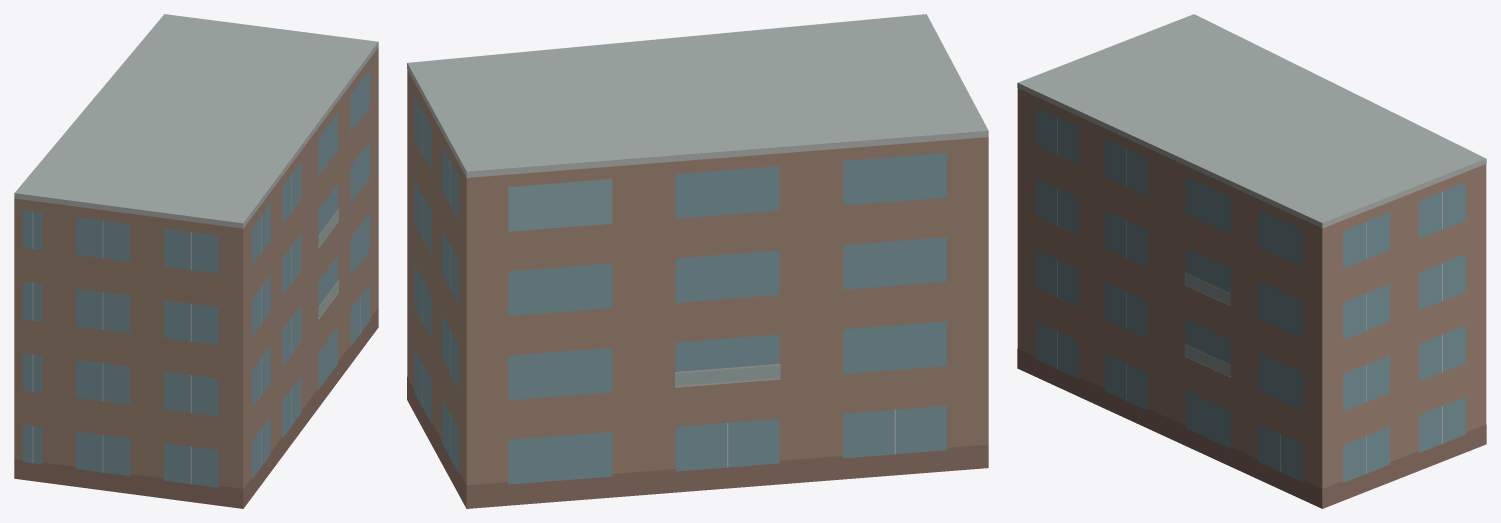
File: survey-upis-32837615.glb
3 views of the same model, side by side, from view 1: azimuth 30°, elevation 25°; view 2: azimuth 150°, elevation 25°; view 3: azimuth 270°, elevation 25° (orthographic). The views are drawn at different scales.
Parts seen in each view (by area): view 1: survey-upis-32837615.tmp; view 2: survey-upis-32837615.tmp; view 3: survey-upis-32837615.tmp.
Part boxes in pixels (<box>): survey-upis-32837615.tmp: <box>14,14,378,508</box>; survey-upis-32837615.tmp: <box>407,14,988,508</box>; survey-upis-32837615.tmp: <box>1017,14,1486,508</box>.
Size of the model in its own units: 20.73 by 13.2 by 19.64.
